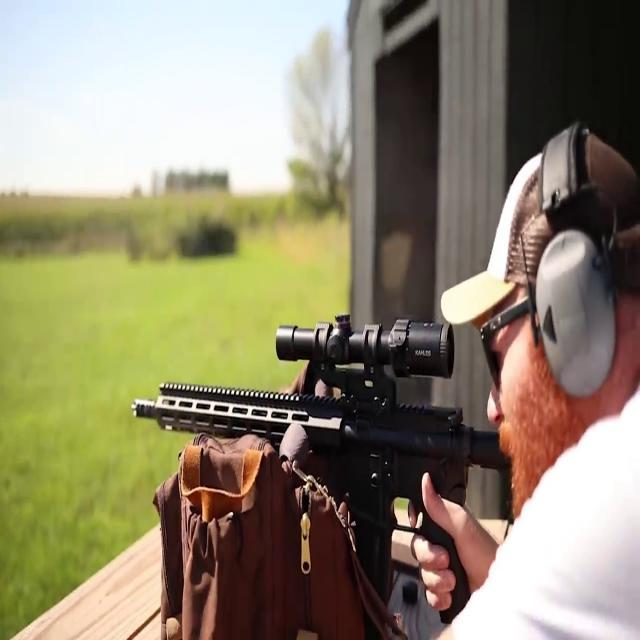Fire: (128, 297, 492, 624)
